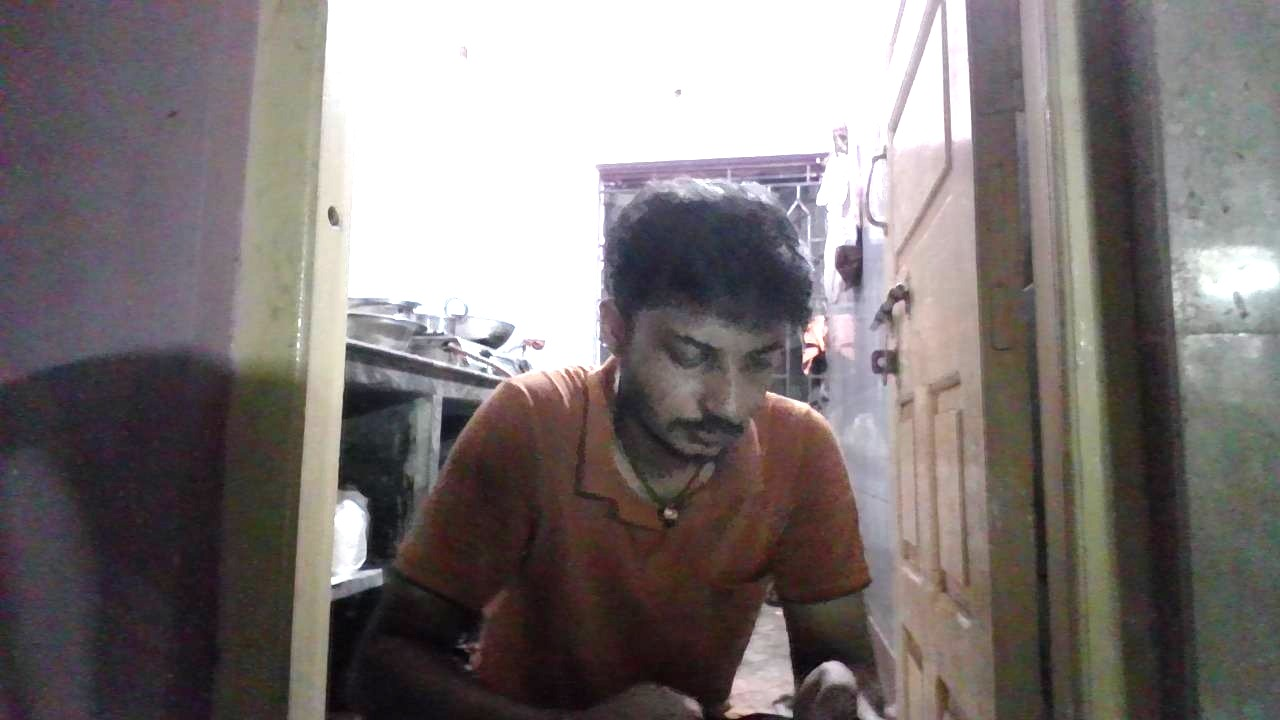red_box: (728, 406, 868, 586)
